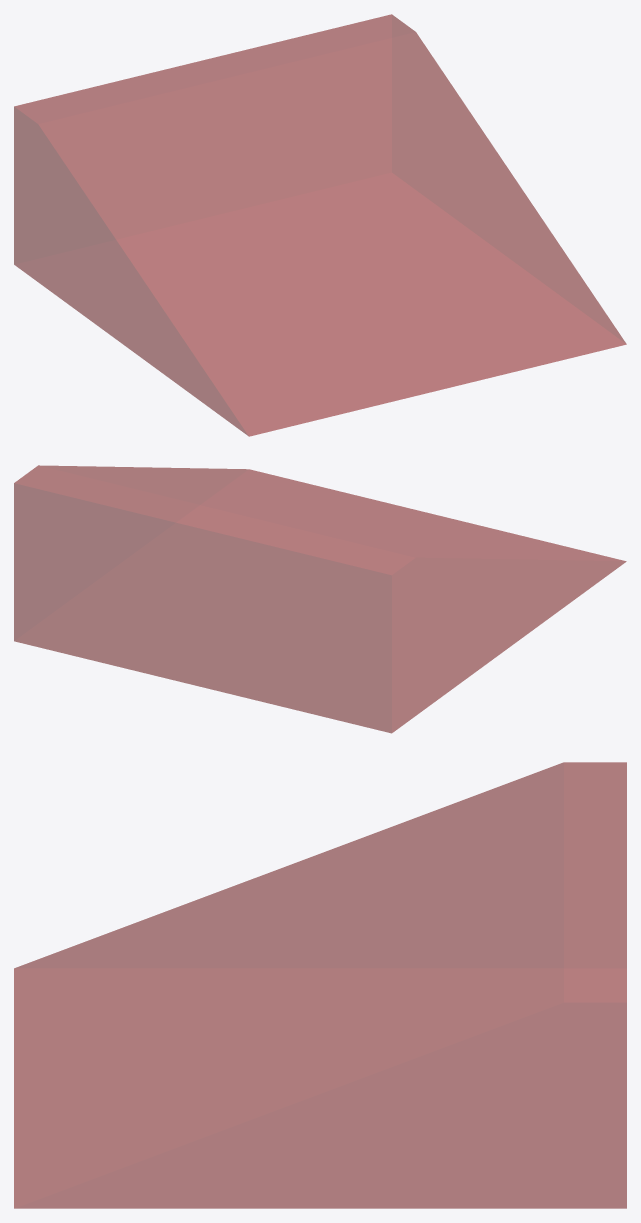
Rendered from SM_Bld_Steps_01_Collision.fbx.
3 views of the same model, one above another, from view 1: azimuth 30°, elevation 25°; view 2: azimuth 150°, elevation 25°; view 3: azimuth 270°, elevation 25° (orthographic). The views are drawn at different scales.
Visible parts, largest first — view 1: SM_Bld_Steps_01_Collision; view 2: SM_Bld_Steps_01_Collision; view 3: SM_Bld_Steps_01_Collision.
Boxes of the visible parts, x1=… form: SM_Bld_Steps_01_Collision: x1=14, y1=14, x2=626, y2=436; SM_Bld_Steps_01_Collision: x1=14, y1=465, x2=626, y2=733; SM_Bld_Steps_01_Collision: x1=14, y1=762, x2=626, y2=1208.
Size of the model in its own units: 250 by 100 by 269.
